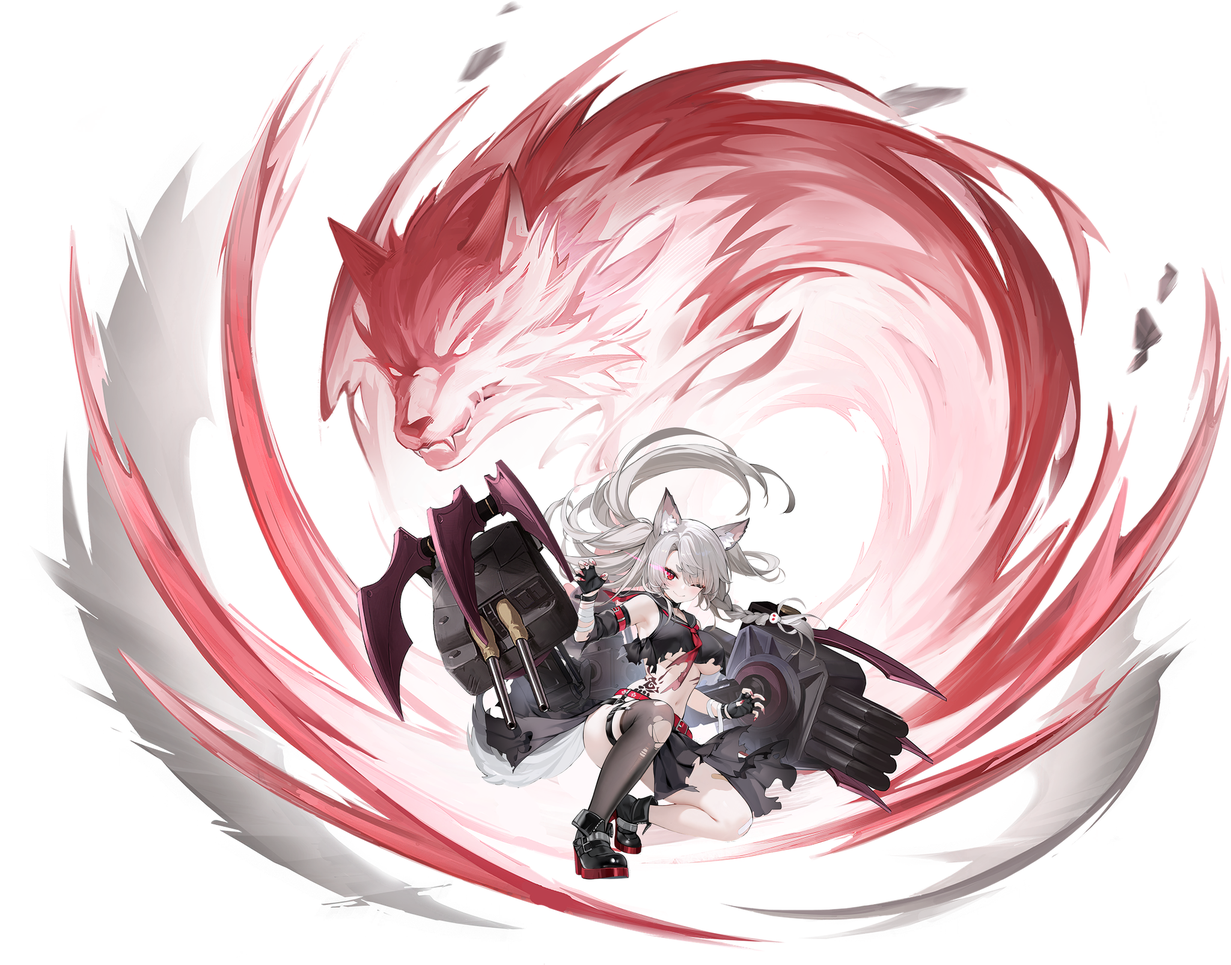person: (501, 443, 845, 892)
